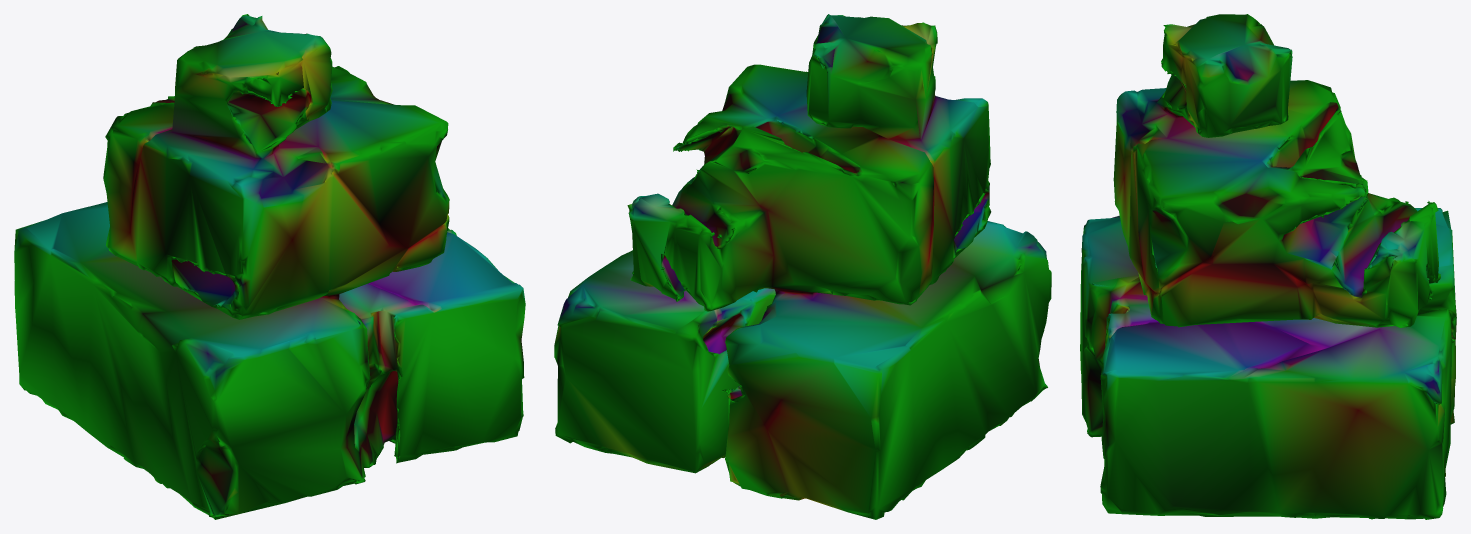
Rendered from SM_Ruin_C_L1.glb.
3 views of the same model, side by side, from view 1: azimuth 30°, elevation 25°; view 2: azimuth 150°, elevation 25°; view 3: azimuth 270°, elevation 25° (orthographic). The views are drawn at different scales.
Parts seen in each view (by area): view 1: SM_Ruin_C; view 2: SM_Ruin_C; view 3: SM_Ruin_C.
Boxes of the visible parts, box(x1,y1,x2,y2) form: SM_Ruin_C: box(14, 14, 525, 519); SM_Ruin_C: box(554, 14, 1051, 519); SM_Ruin_C: box(1080, 14, 1456, 519).
Bounding box in the file's own units: 1.89 × 2.09 × 1.85.
